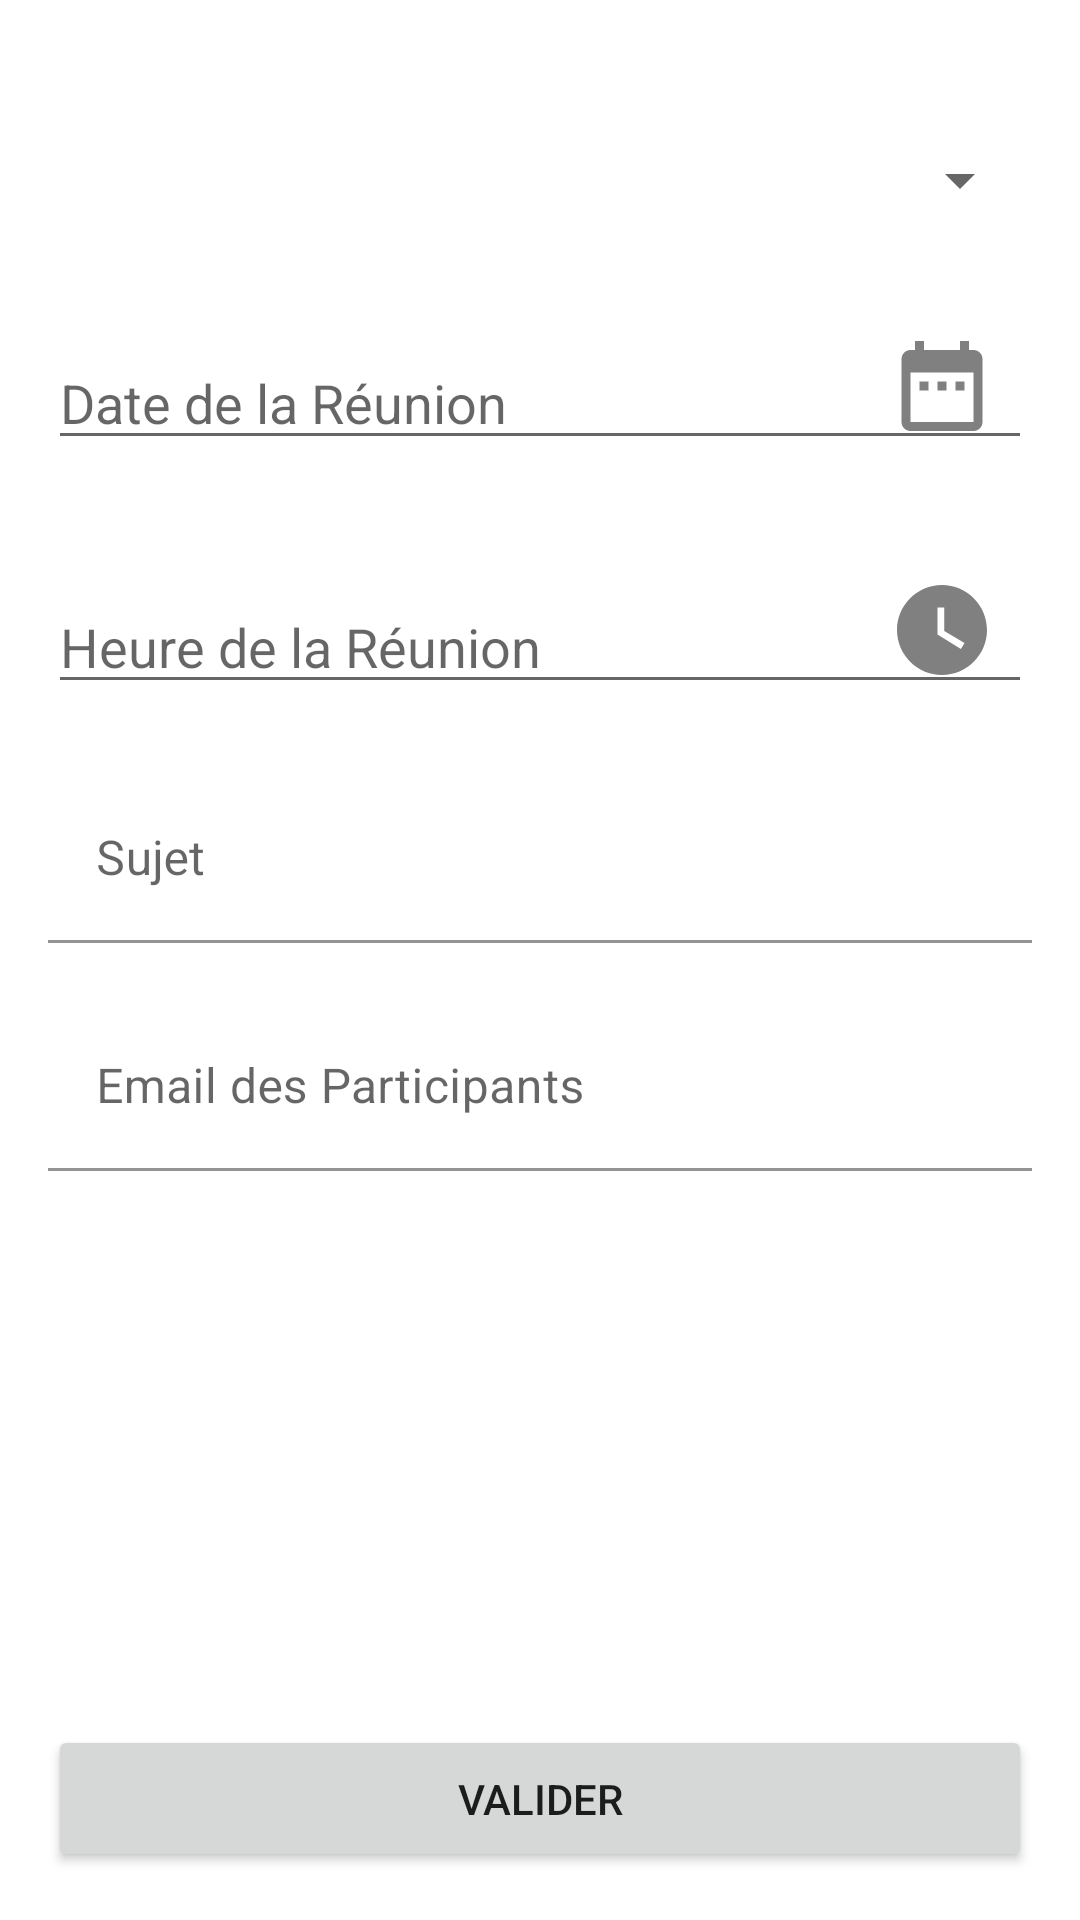

Locate icon controls on the screen. Image size 1080x1920, boxes as (x1, y1, x2, y2).
calendar: (901, 341, 983, 431)
clock: (897, 585, 987, 675)
